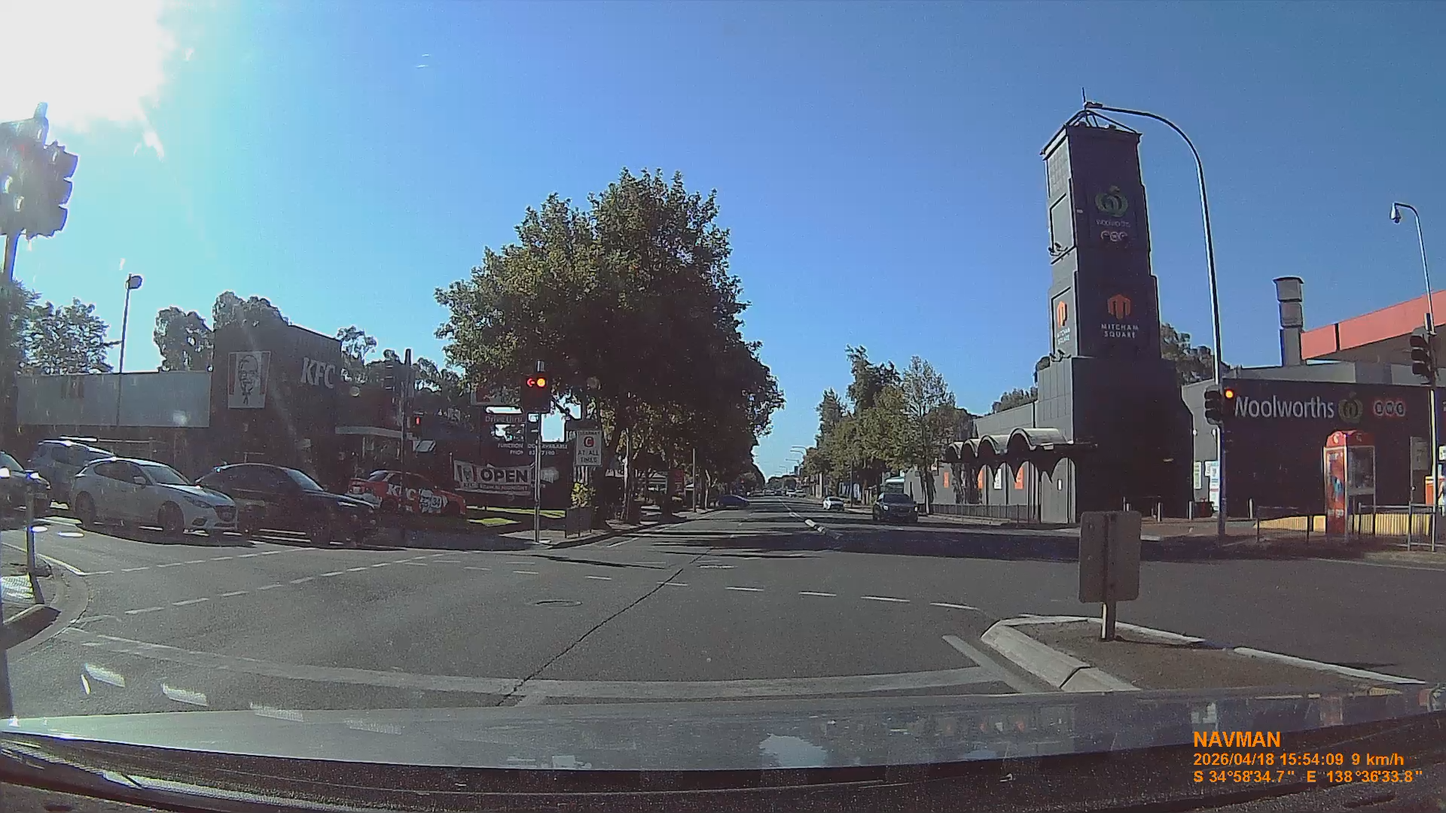fences: (1250, 507, 1434, 544), (932, 504, 1074, 526), (564, 508, 592, 536)
